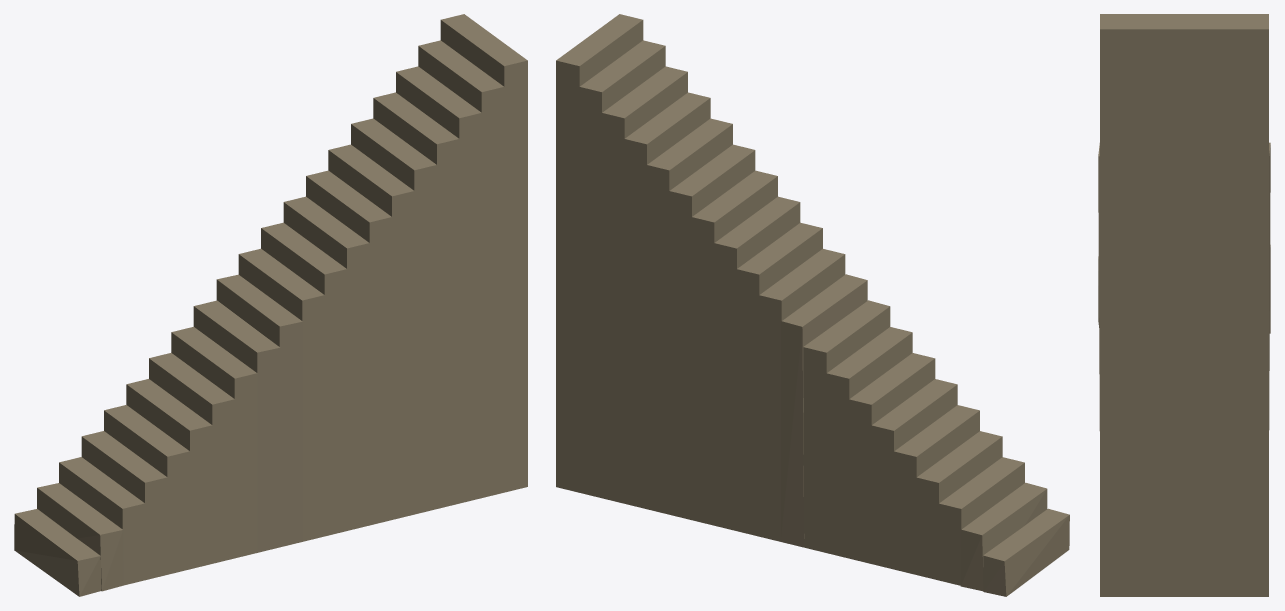
Rendered from castle-stairs-lod1.glb.
3 renders of one model, left to right at view 1: azimuth 30°, elevation 25°; view 2: azimuth 150°, elevation 25°; view 3: azimuth 270°, elevation 25°, orthographic. The views are drawn at different scales.
Bounding box in the file's own units: 8.02 × 7.26 × 2.
